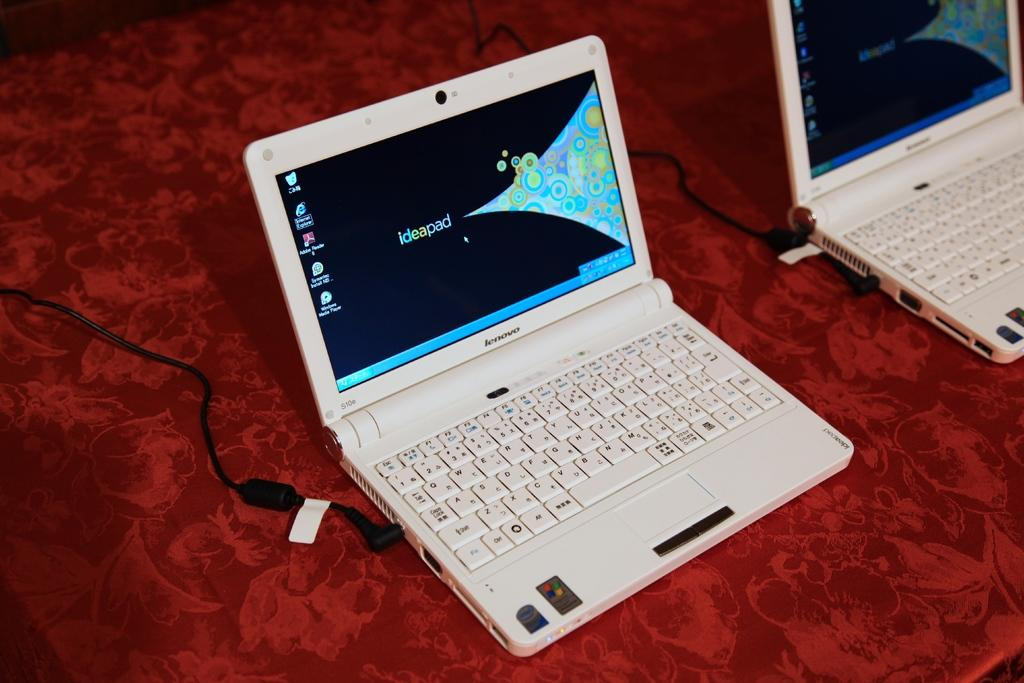Computer-keyboard: (372, 315, 785, 572), (838, 144, 1023, 307)
